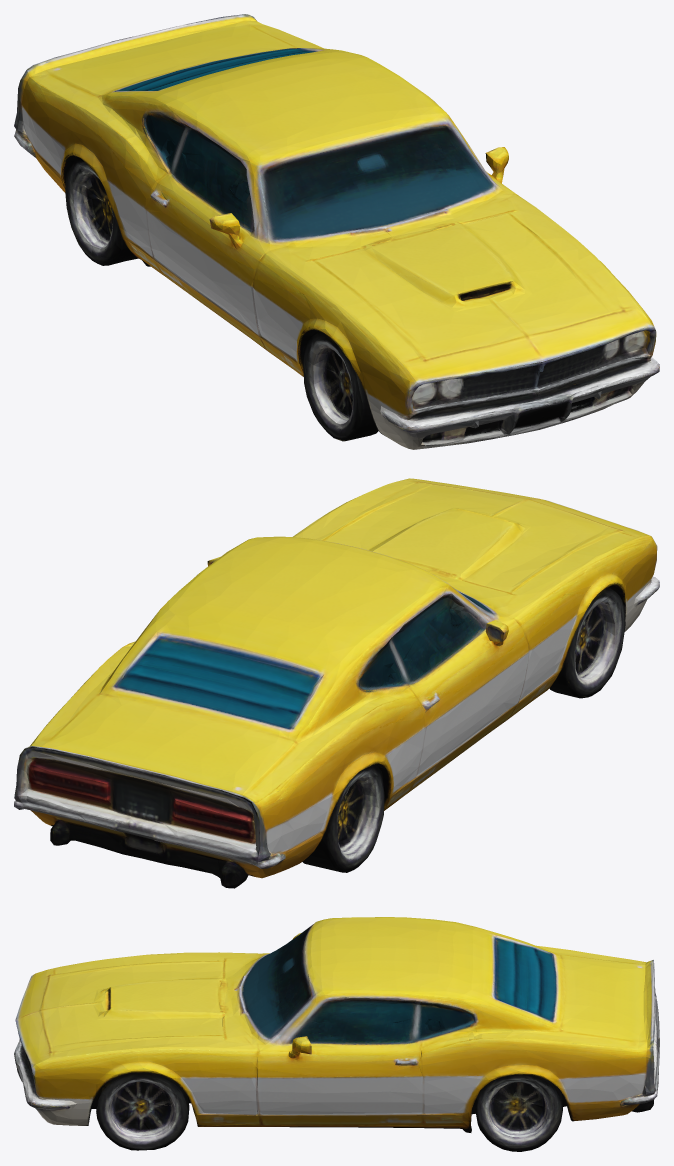
The model's file is 3d-sports-car.glb.
3 renders of one model, top to bottom at view 1: azimuth 30°, elevation 25°; view 2: azimuth 150°, elevation 25°; view 3: azimuth 270°, elevation 25°, orthographic. The views are drawn at different scales.
Visible parts, largest first — view 1: world; view 2: world; view 3: world.
Part boxes in pixels (<box>): world: <box>14,14,659,449</box>; world: <box>14,478,659,888</box>; world: <box>14,917,659,1151</box>.
Bounding box in the file's own units: 0.4155 × 0.2622 × 0.9991.
Materials: 1 (1 with a texture image).
